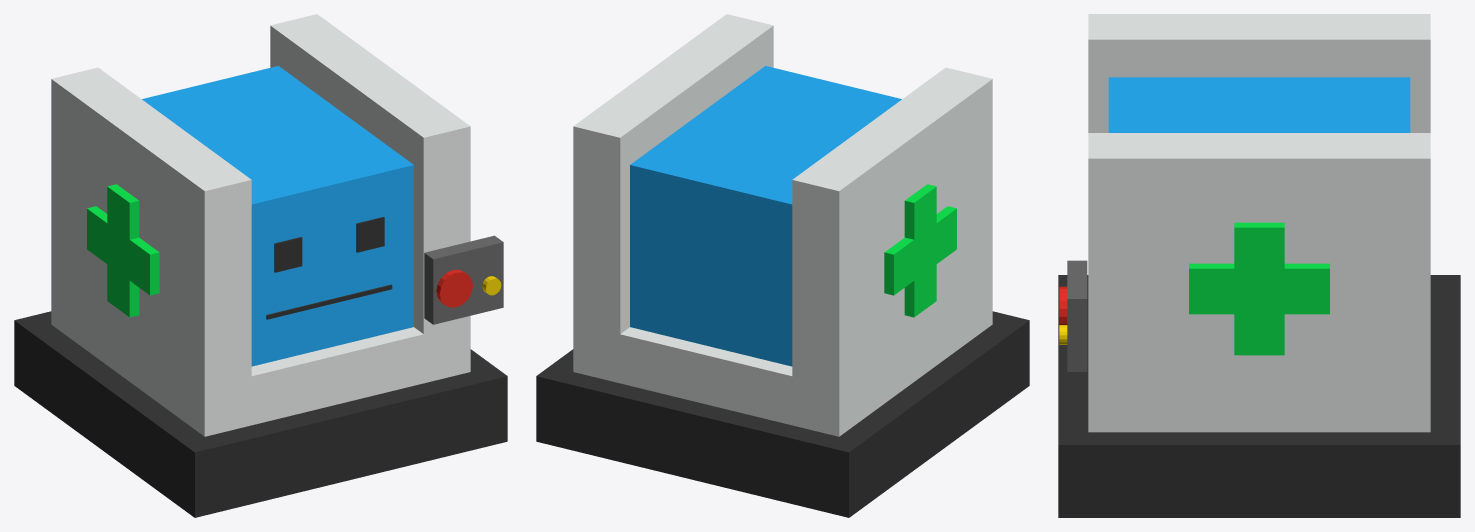
The model's file is machine.obj.
3 renders of one model, left to right at view 1: azimuth 30°, elevation 25°; view 2: azimuth 150°, elevation 25°; view 3: azimuth 270°, elevation 25°, orthographic. The views are drawn at different scales.
Parts seen in each view (by area): view 1: frame, inner, base, plus, box, button1, eye1, eye2, mouse; view 2: frame, inner, base, plus; view 3: frame, base, inner, plus, box.
Boxes of the visible parts, box(x1,y1,x2,y2) form: frame: box(51, 14, 470, 436); inner: box(142, 66, 413, 366); base: box(14, 311, 507, 517); plus: box(87, 184, 159, 317); box: box(424, 235, 503, 324); button1: box(436, 269, 472, 307); eye1: box(274, 237, 302, 272); eye2: box(356, 217, 384, 252); mouse: box(266, 284, 392, 319); frame: box(573, 14, 992, 436); inner: box(630, 66, 901, 366); base: box(536, 311, 1029, 517); plus: box(884, 184, 956, 317); frame: box(1088, 14, 1430, 432); base: box(1058, 275, 1460, 517); inner: box(1108, 77, 1410, 132); plus: box(1189, 222, 1329, 355); box: box(1067, 260, 1087, 371).
Size of the model in its own units: 2 by 1.9 by 2.
